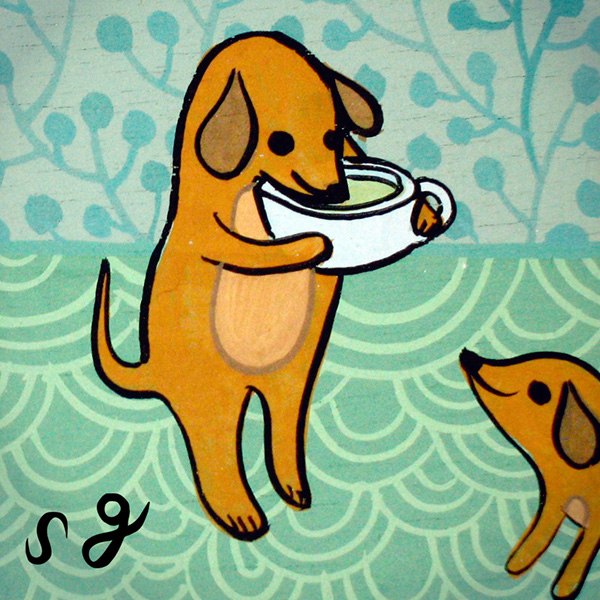dog: (111, 12, 429, 543), (442, 328, 600, 589)
